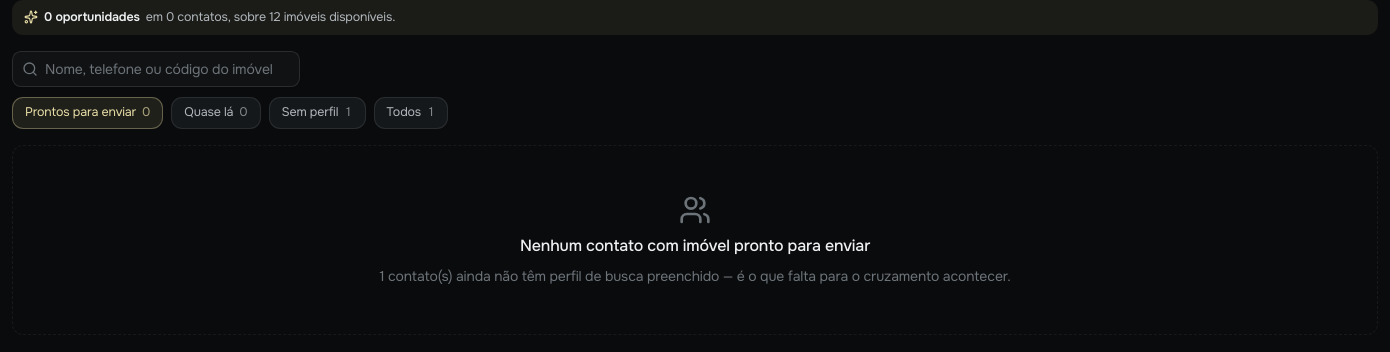
Test: aba de Oportunidades › contato sem perfil de busca é convidado a preencher, não escondido
Click the button "Sem perfil 1": (317, 113) [268,97,366,129]
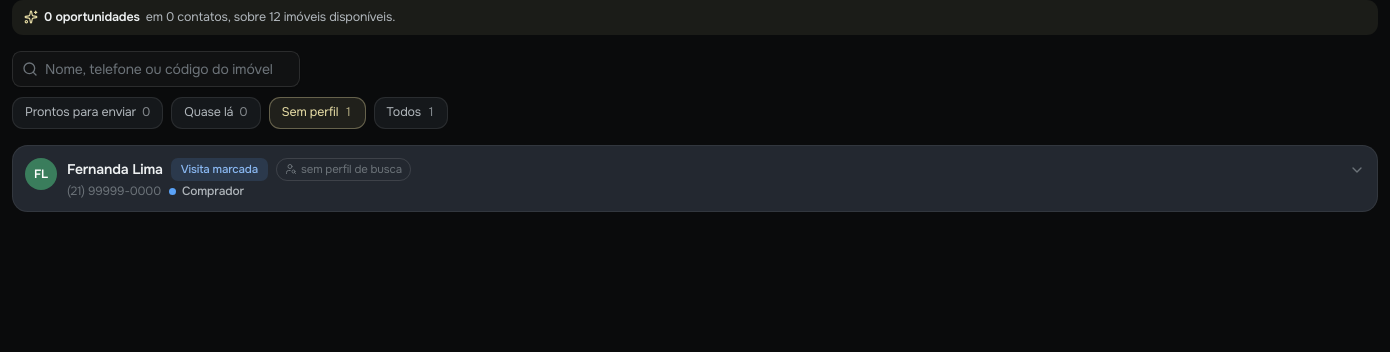
Click the text "Fernanda Lima": (115, 169) [67,159,163,179]
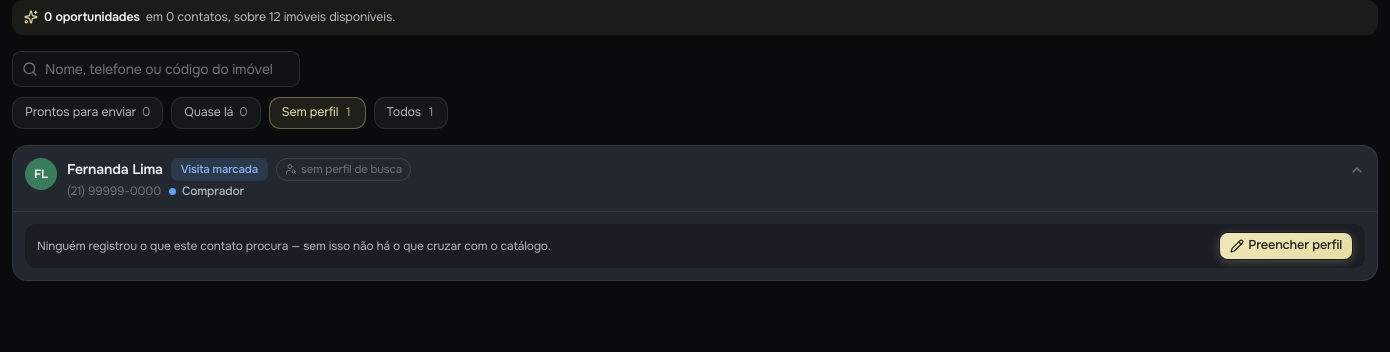
expect the button "Preencher perfil" is shown: met, box [1219,232,1353,260]
